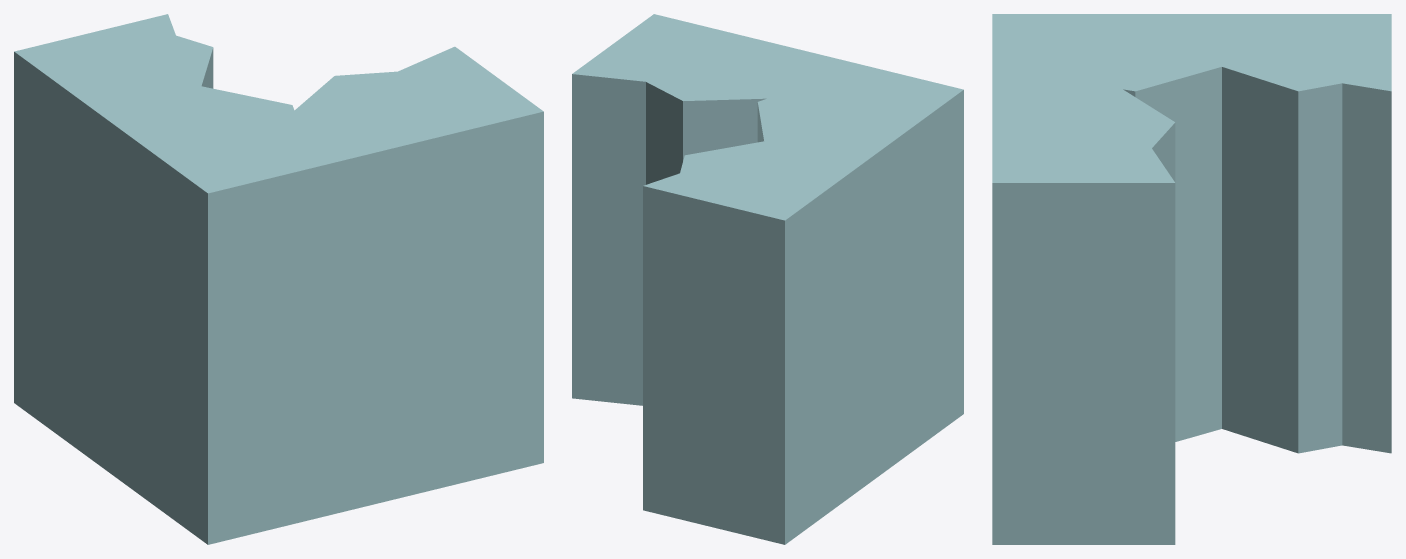
File: cliffGrey_cornerInnerMid.obj
3 renders of one model, left to right at view 1: azimuth 30°, elevation 25°; view 2: azimuth 150°, elevation 25°; view 3: azimuth 270°, elevation 25°, orthographic. The views are drawn at different scales.
Visible parts, largest first — view 1: cliffGrey_cornerInnerMid; view 2: cliffGrey_cornerInnerMid; view 3: cliffGrey_cornerInnerMid.
Boxes of the visible parts, <box> form: cliffGrey_cornerInnerMid: <box>14,14,543,544</box>; cliffGrey_cornerInnerMid: <box>572,14,963,544</box>; cliffGrey_cornerInnerMid: <box>992,14,1391,544</box>.
Bounding box in the file's own units: 10 × 10 × 10.
